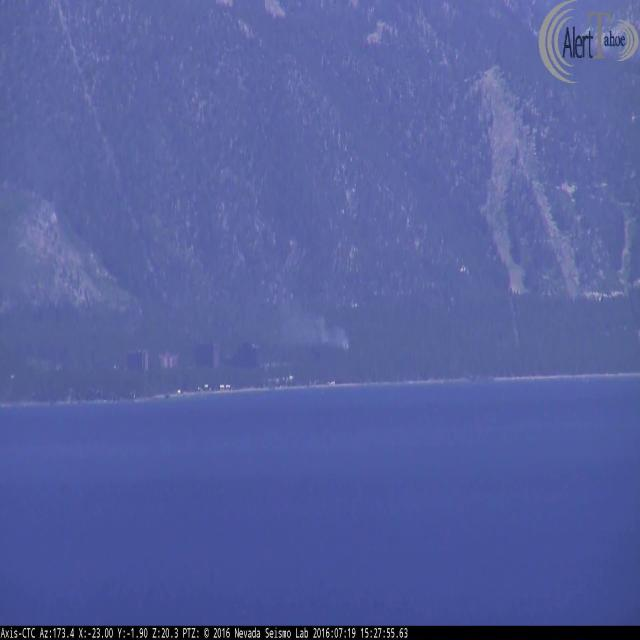smoke: (263, 288, 352, 356)
